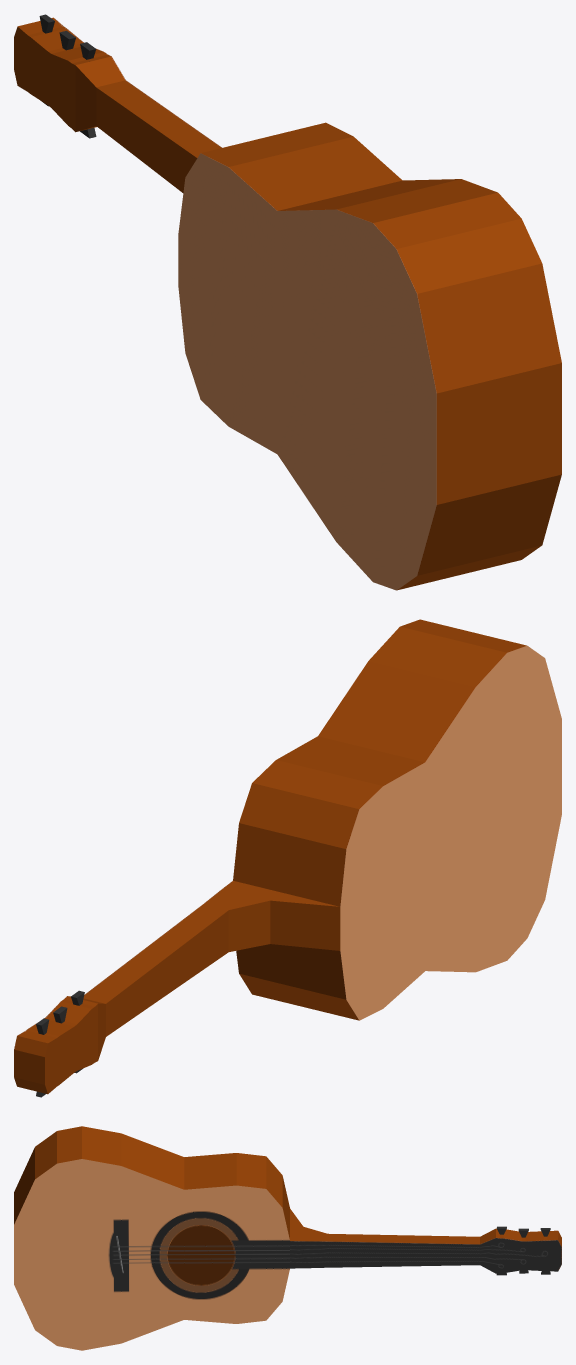
File: Guitar.fbx
3 renders of one model, top to bottom at view 1: azimuth 30°, elevation 25°; view 2: azimuth 150°, elevation 25°; view 3: azimuth 270°, elevation 25°, orthographic. The views are drawn at different scales.
Parts seen in each view (by area): view 1: Guitar; view 2: Guitar; view 3: Guitar.
Part boxes in pixels (left/top/right/bottom): Guitar: left=14, top=14, right=561, bottom=590; Guitar: left=14, top=619, right=561, bottom=1097; Guitar: left=14, top=1126, right=561, bottom=1350.
Bounding box in the file's own units: 14.02 × 38.09 × 98.61.
